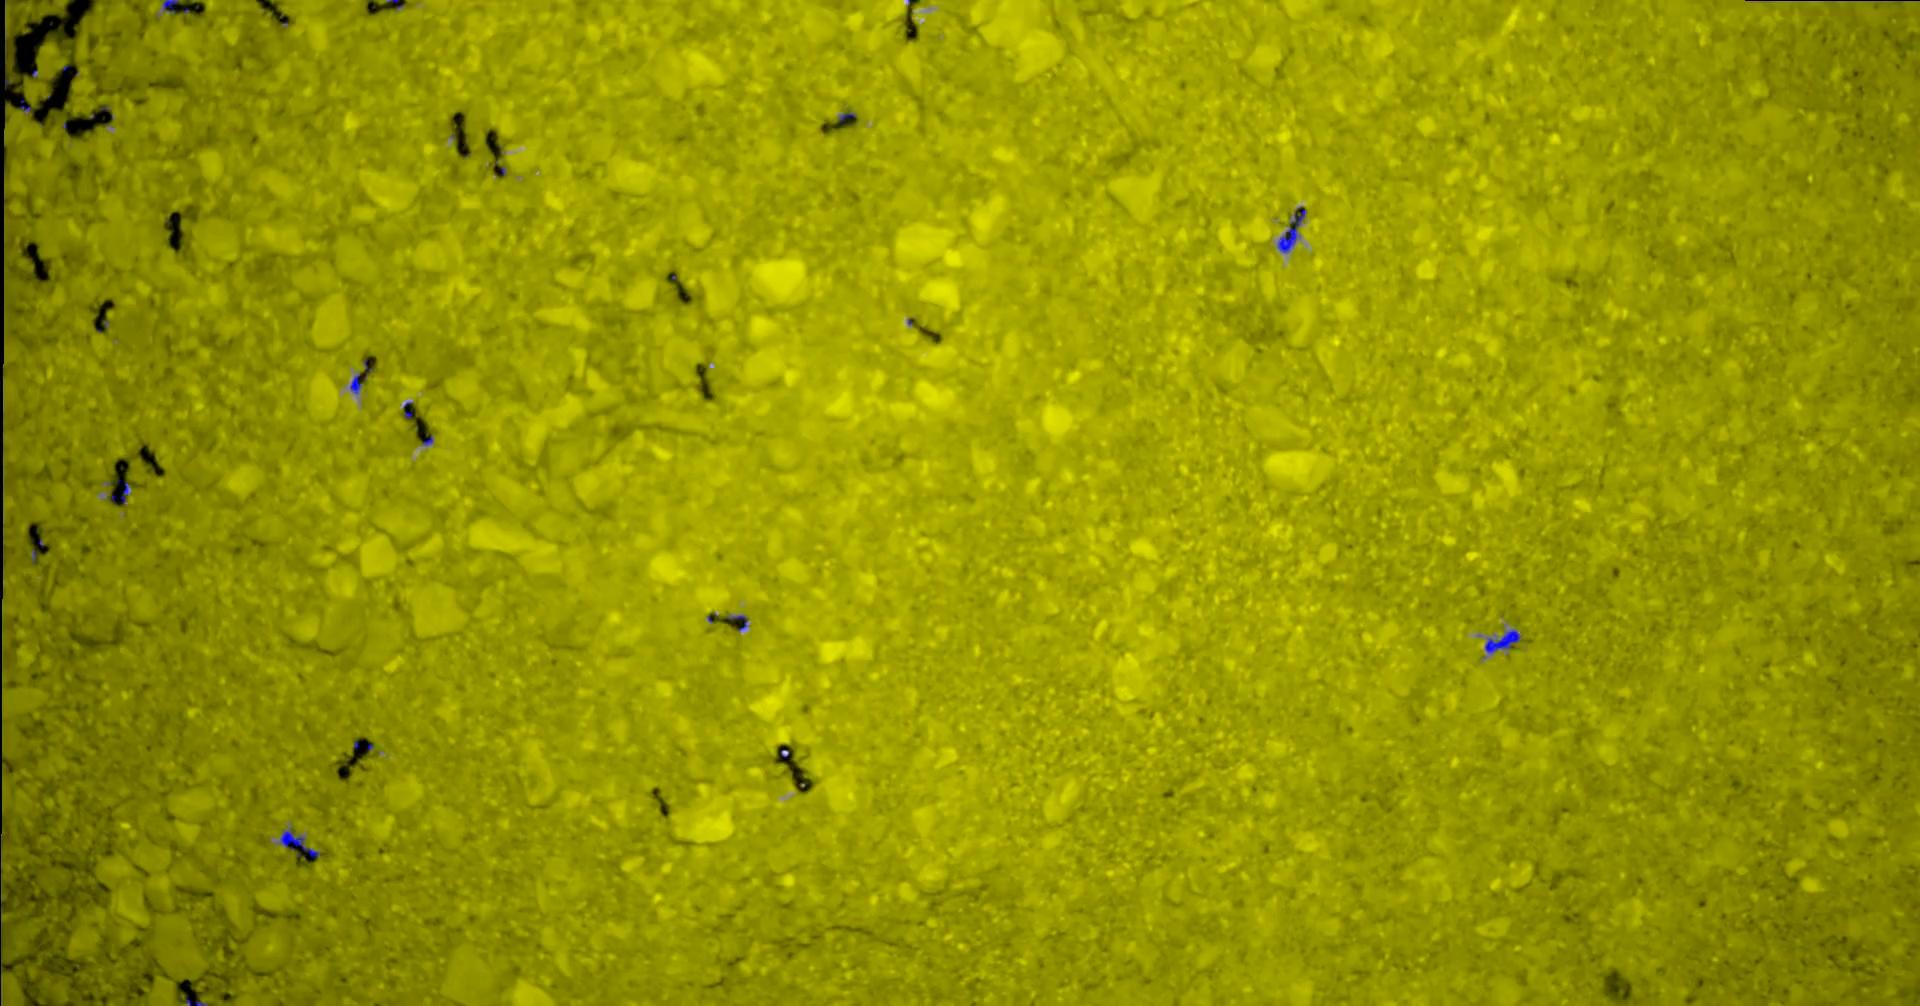ant: (1277, 206, 1305, 251), (279, 828, 319, 857), (1484, 629, 1520, 653), (349, 359, 371, 392), (110, 481, 128, 504), (726, 615, 747, 630), (161, 0, 178, 13)
